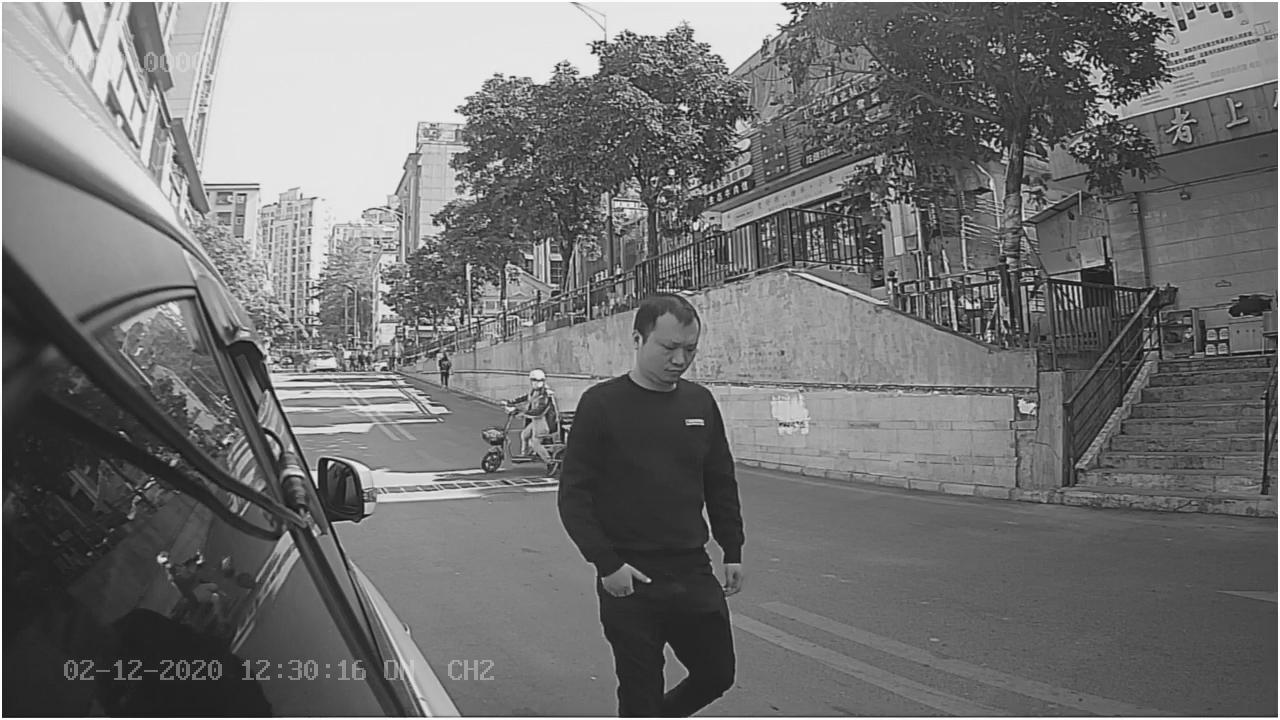person: (550, 291, 752, 605)
